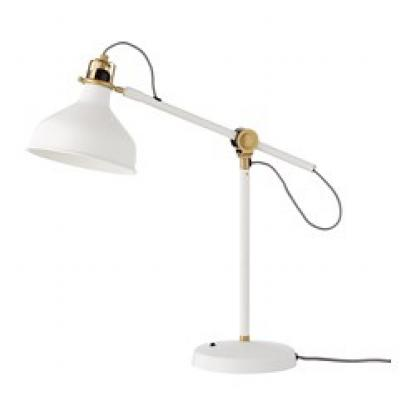Lamp: (18, 34, 348, 390)
